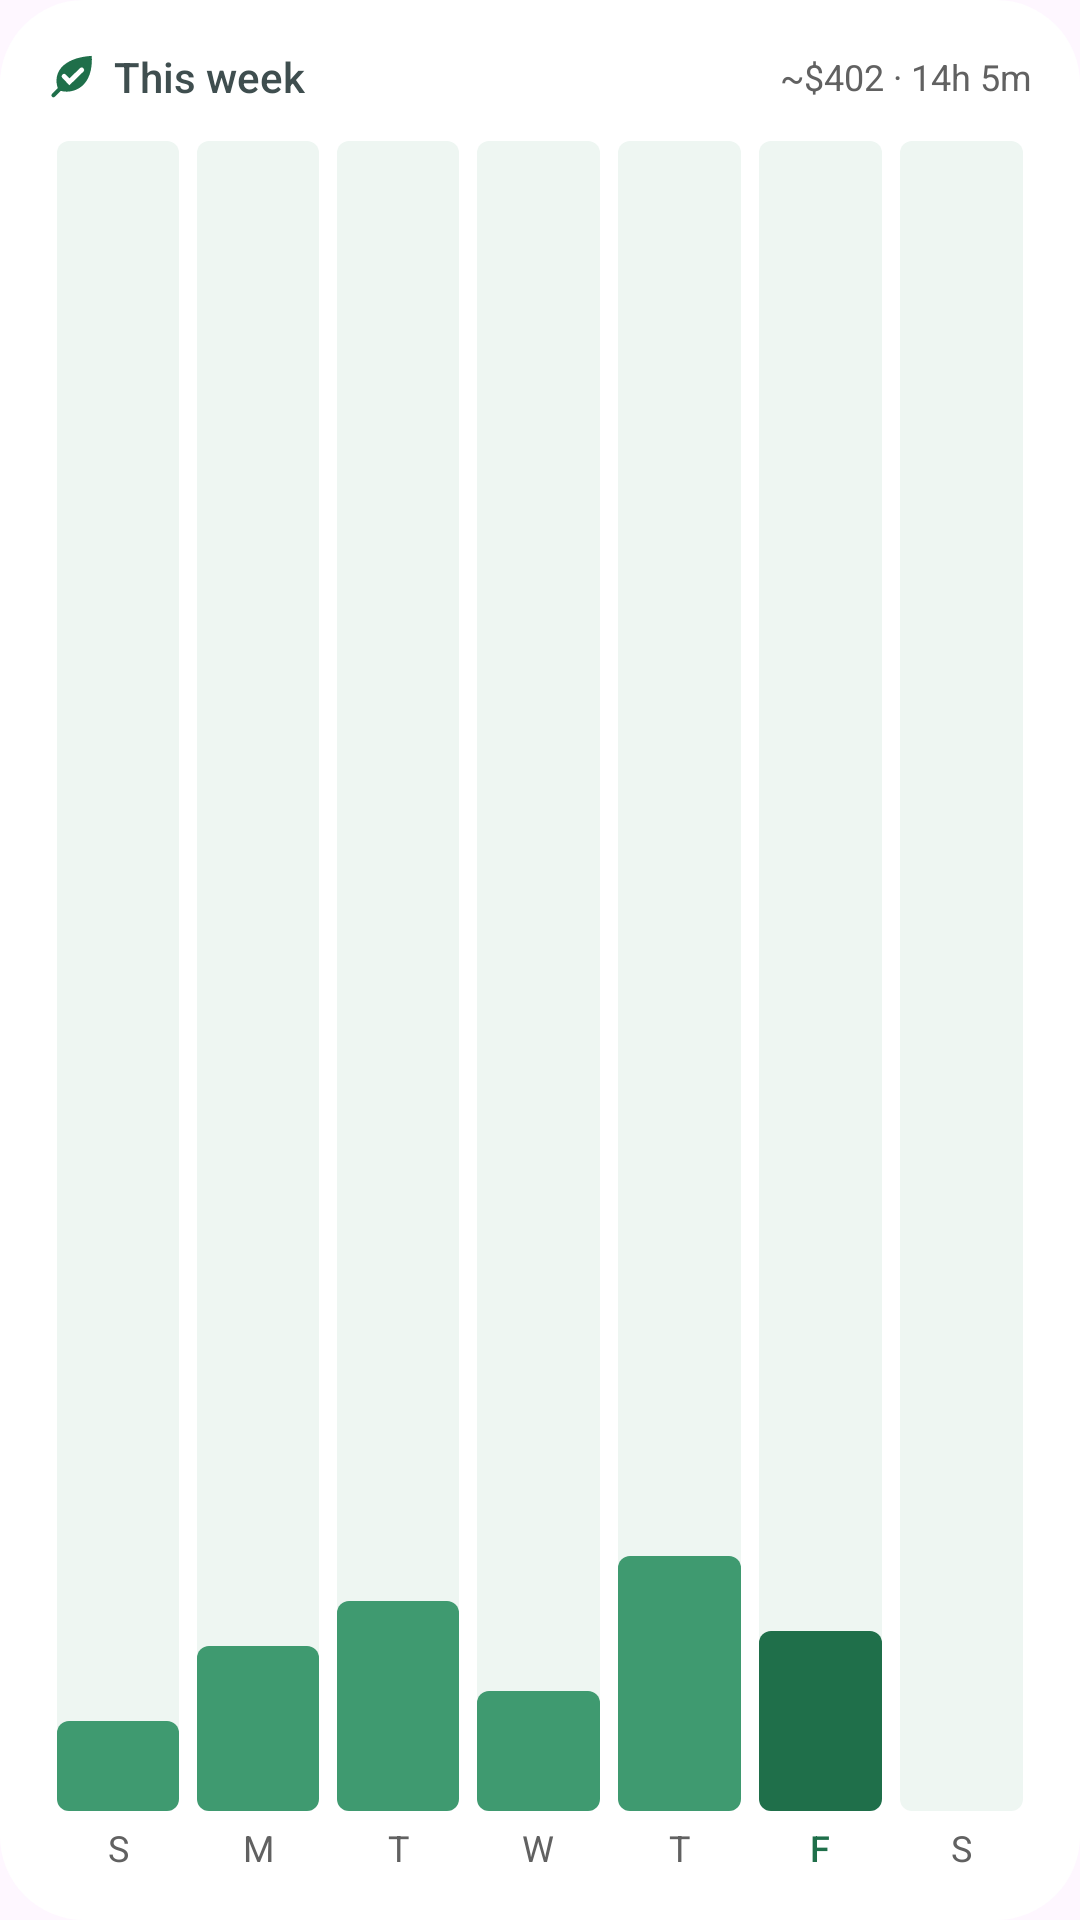

Where icons sit on this 1080×1920 app screen, as (x1, y1, x2, y2):
taskmint: (51, 56, 92, 98)
